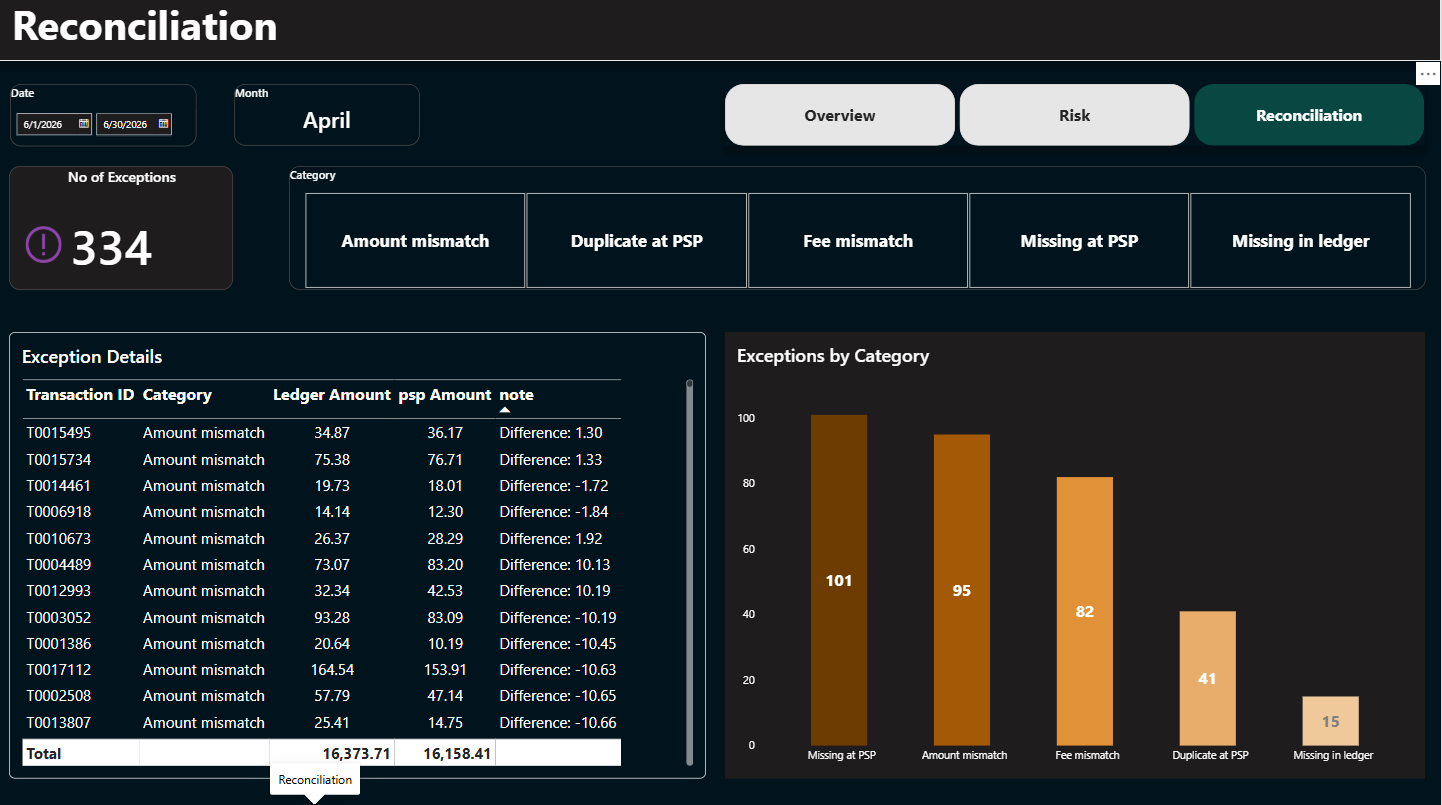

This screenshot's page, from the dashboard's own definition file:
{"tool":"powerbi","page":{"name":"Reconciliation","canvas":[1920,1080],"ordinal":2},"visuals":[{"type":"shape","box":[0,0,1920,86.1],"z":0},{"type":"slicer","title":"Date","fields":{"Values":["DateTable.Date"]},"box":[17.1,117.1,248,83.2],"z":1000},{"type":"cardVisual","title":"Month","fields":{"Data":["Min(DateTable.Date.Variation.Date Hierarchy.Month)"]},"box":[315.7,117.6,247.1,82.4],"z":2000},{"type":"pageNavigator","box":[968.6,117.6,931.4,82.4],"z":3000},{"type":"cardVisual","title":"No of Exceptions","fields":{"Data":["Recon_Exceptions.No of Rec Txns"]},"box":[16,226,298,164.7],"z":4000},{"type":"tableEx","title":"Exception Details","fields":{"Values":["Recon_Exceptions.txn_id","Recon_Exceptions.category","Sum(Recon_Exceptions.ledger_amount)","Sum(Recon_Exceptions.psp_amount)","Recon_Exceptions.note"]},"box":[15.7,447.1,927.5,594.1],"z":5000},{"type":"slicer","title":"Category","fields":{"Values":["Recon_Exceptions.category"]},"box":[388.2,225.5,1511.8,164.7],"z":6000},{"type":"clusteredColumnChart","title":"Exceptions by Category","fields":{"Category":["Recon_Exceptions.category"],"Y":["CountNonNull(Recon_Exceptions.txn_id)"]},"box":[968.6,447.1,931.4,594.1],"z":7000}]}

Visuals, with their boxes in screenshot pixels (x1, y1, x2, y2), scaled from the page's 1920x1080 canvas onto the 1442x805 screenshot:
shape: <bbox>0, 0, 1441, 64</bbox>
"Date" slicer: <bbox>13, 87, 199, 149</bbox>
"Month" cardVisual: <bbox>237, 88, 423, 149</bbox>
pageNavigator: <bbox>727, 88, 1427, 149</bbox>
"No of Exceptions" cardVisual: <bbox>12, 168, 236, 291</bbox>
"Exception Details" tableEx: <bbox>12, 333, 708, 776</bbox>
"Category" slicer: <bbox>292, 168, 1427, 291</bbox>
"Exceptions by Category" clusteredColumnChart: <bbox>727, 333, 1427, 776</bbox>
